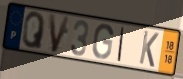3: (70, 19, 90, 57)
G: (91, 23, 115, 61)
I: (116, 26, 126, 64)
K: (138, 29, 160, 69)
Q: (21, 11, 47, 51)
V: (47, 13, 72, 55)
